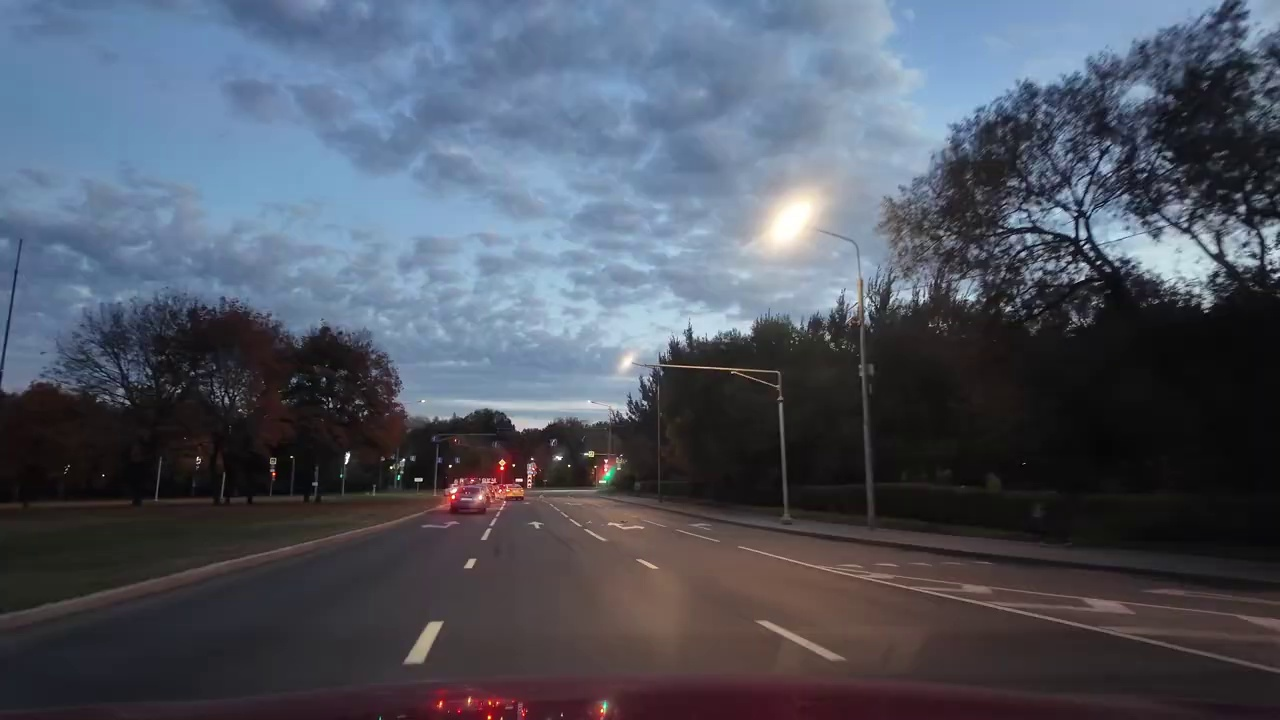acesa: (765, 195, 820, 250), (614, 347, 643, 380)
